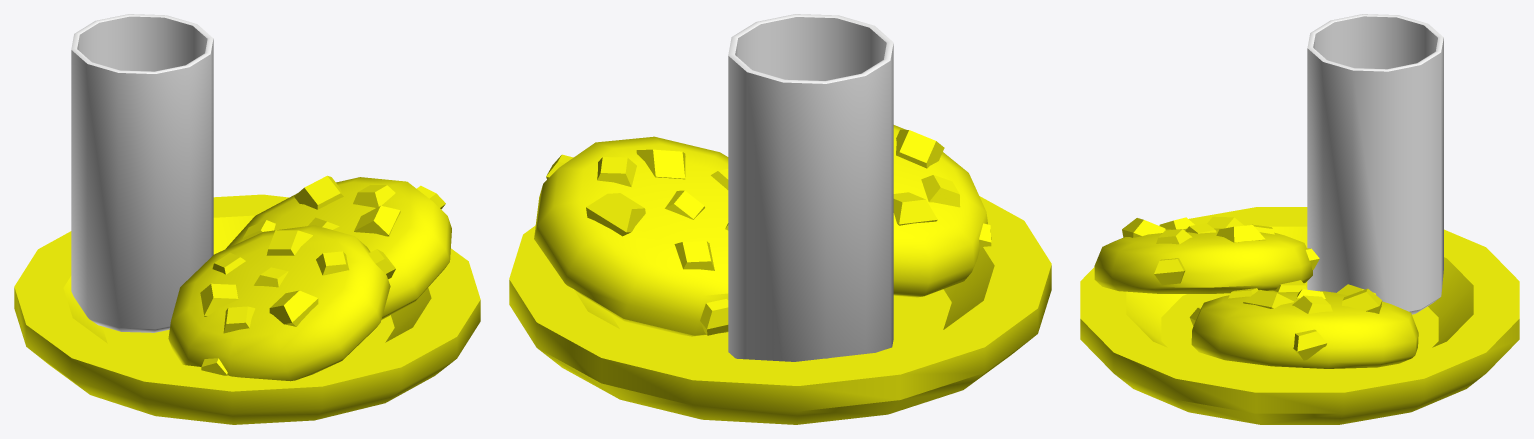
The model's file is kaykit-plate-decorated-b.glb.
3 renders of one model, left to right at view 1: azimuth 30°, elevation 25°; view 2: azimuth 150°, elevation 25°; view 3: azimuth 270°, elevation 25°, orthographic. The views are drawn at different scales.
Visible parts, largest first — view 1: plate_decorated_B; view 2: plate_decorated_B; view 3: plate_decorated_B.
Boxes of the visible parts, x1,y1,x2,y2 form: plate_decorated_B: [14, 14, 480, 424]; plate_decorated_B: [509, 14, 1051, 424]; plate_decorated_B: [1080, 14, 1519, 424].
Bounding box in the file's own units: 0.95 × 0.6421 × 0.95.
